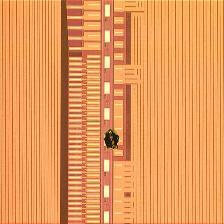PARTICLE: (101, 129, 126, 153)
